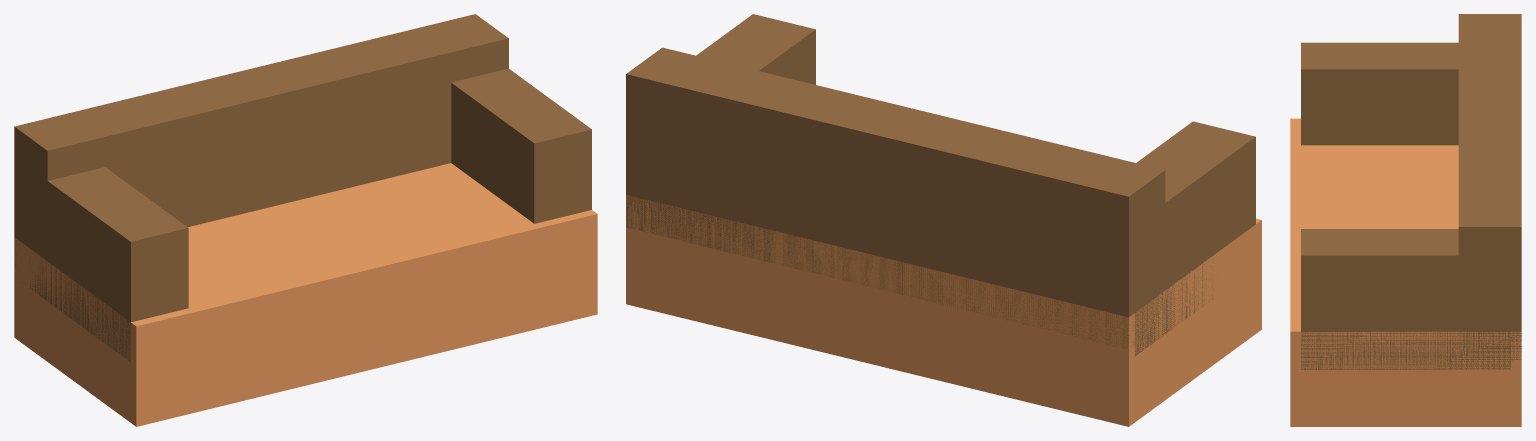
The model's file is sofa.glb.
3 views of the same model, side by side, from view 1: azimuth 30°, elevation 25°; view 2: azimuth 150°, elevation 25°; view 3: azimuth 270°, elevation 25° (orthographic). The views are drawn at different scales.
Visible parts, largest first — view 1: sofa; view 2: sofa; view 3: sofa.
Part boxes in pixels (x1,y1,x2,y2): sofa: [14, 14, 597, 426]; sofa: [626, 14, 1261, 426]; sofa: [1290, 14, 1521, 426].
Bounding box in the file's own units: 48 × 21 × 22.
